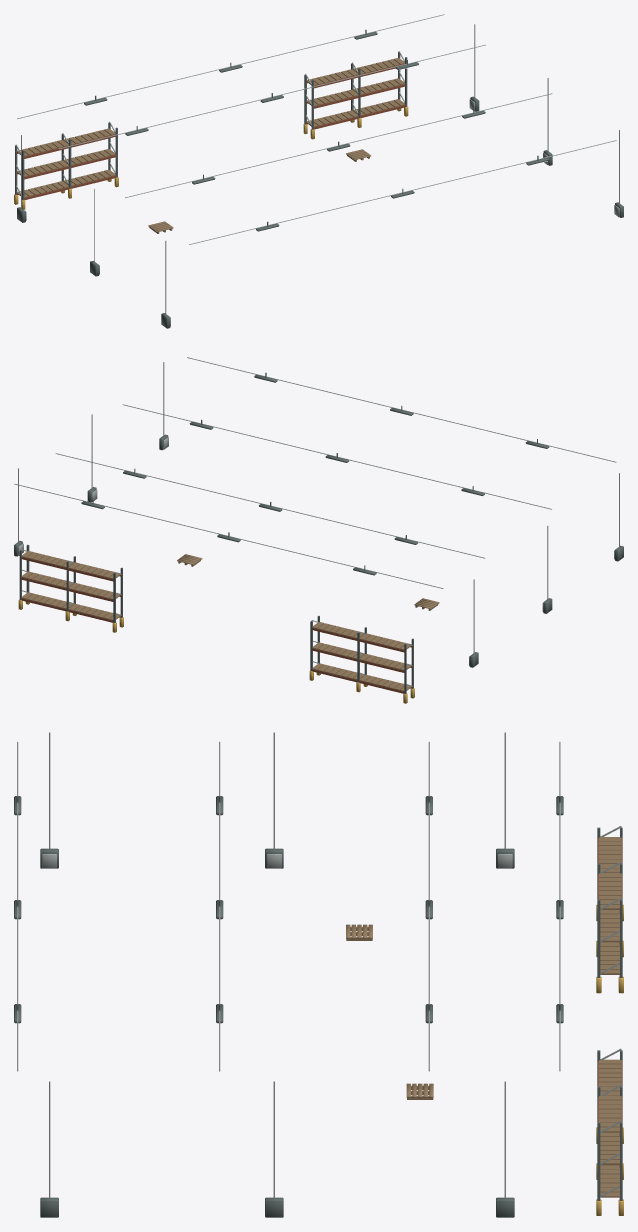
The model's file is bay04Fittings.glb.
3 renders of one model, top to bottom at view 1: azimuth 30°, elevation 25°; view 2: azimuth 150°, elevation 25°; view 3: azimuth 270°, elevation 25°, orthographic. The views are drawn at different scales.
Parts seen in each view (by area): view 1: SM_bay04Fittings; view 2: SM_bay04Fittings; view 3: SM_bay04Fittings.
Part boxes in pixels (box(x1,y1,x2,y2)): SM_bay04Fittings: box(14, 14, 623, 328); SM_bay04Fittings: box(14, 357, 623, 703); SM_bay04Fittings: box(14, 732, 623, 1217).
Size of the model in its own units: 27.4 by 6.18 by 20.08.
